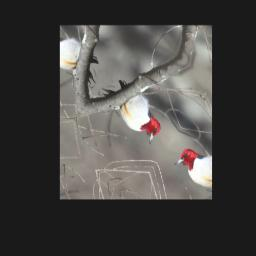Woodpecker: (92, 68, 171, 147)
